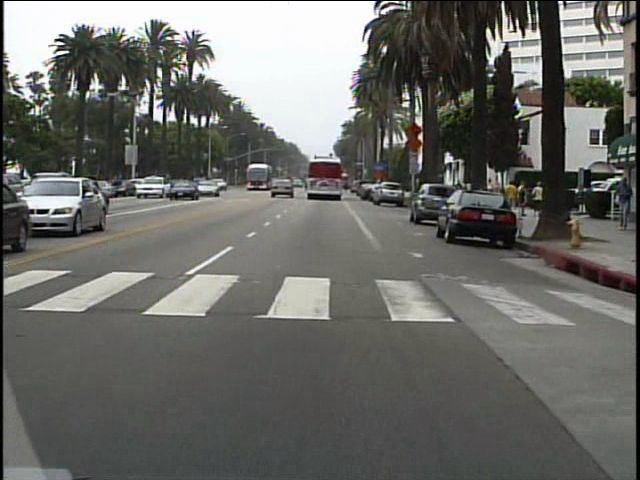person: (609, 172, 634, 236), (452, 177, 465, 191)
